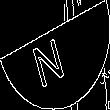N_N: (35, 24, 75, 86)
